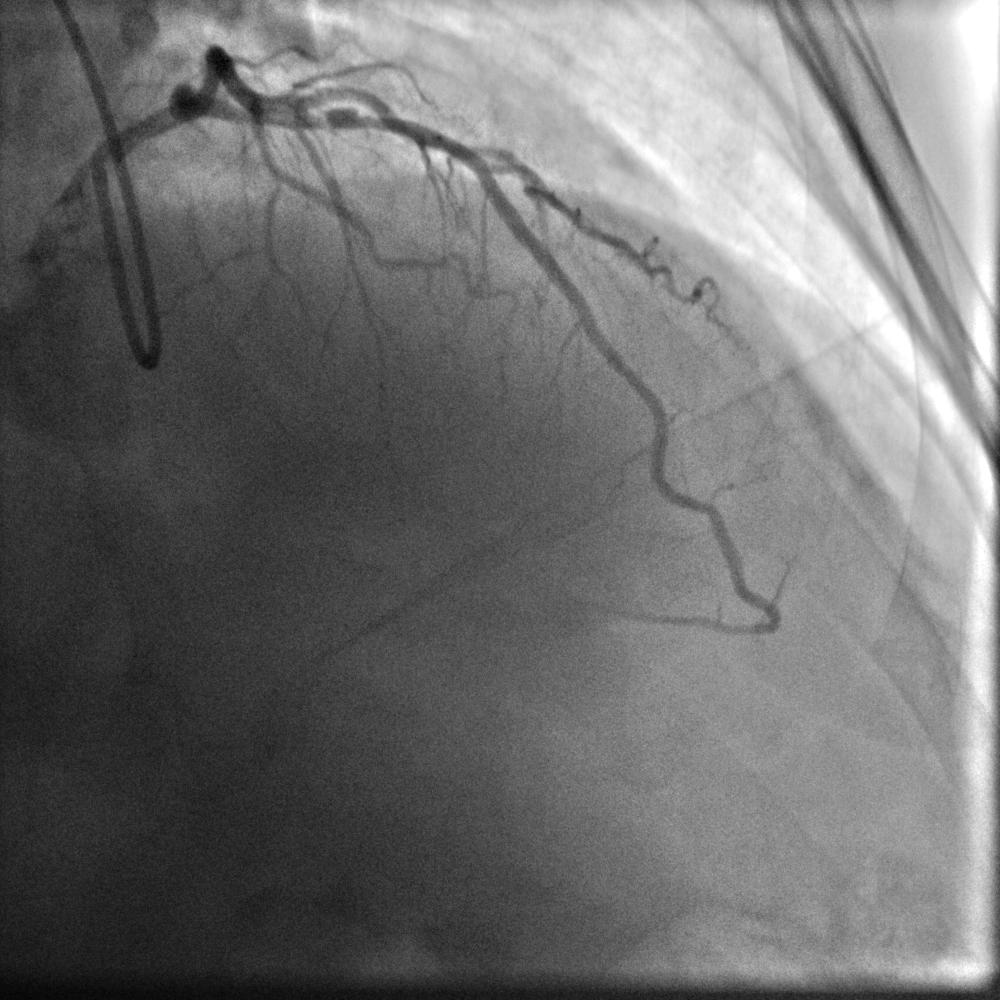Stenosis: (309, 108, 339, 132)
